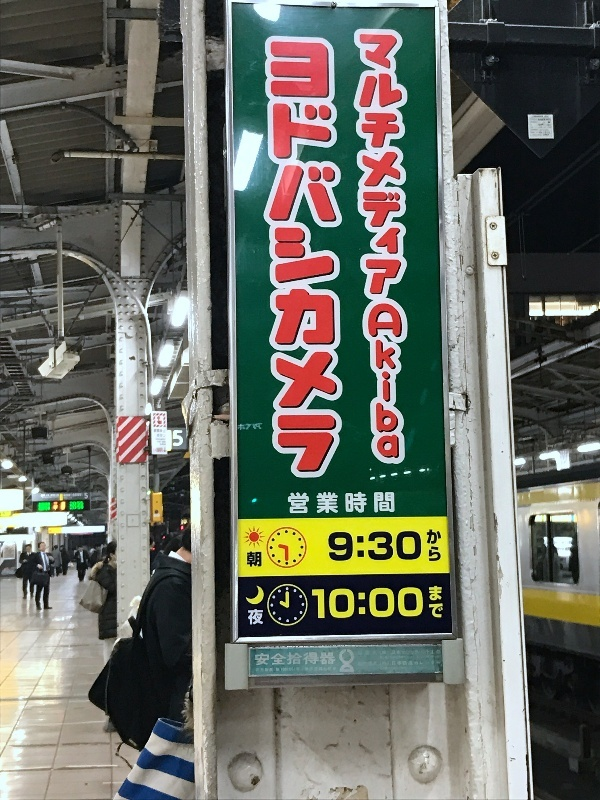text: (273, 35, 288, 484), (289, 35, 304, 484), (305, 35, 320, 484), (321, 35, 336, 484), (353, 30, 368, 463), (369, 30, 384, 463), (385, 30, 400, 463), (337, 35, 343, 484), (401, 30, 405, 463), (269, 35, 272, 484), (337, 525, 352, 567), (353, 525, 368, 567), (369, 525, 384, 567), (385, 525, 400, 567), (401, 525, 416, 567), (321, 586, 336, 621), (337, 586, 352, 621), (353, 586, 368, 621), (369, 586, 384, 621), (385, 586, 400, 621), (401, 586, 416, 621), (289, 488, 304, 519), (305, 488, 320, 519), (321, 488, 336, 519), (337, 488, 352, 519), (353, 488, 368, 519), (369, 488, 384, 519), (433, 584, 444, 621), (338, 647, 352, 676), (327, 525, 336, 567), (385, 488, 397, 519), (433, 526, 442, 564), (311, 586, 320, 621), (257, 650, 272, 670), (273, 650, 288, 670), (289, 650, 304, 670), (305, 650, 320, 670), (417, 586, 425, 621), (321, 650, 335, 670), (417, 525, 423, 567), (247, 547, 256, 573), (426, 526, 432, 564), (247, 607, 256, 630), (257, 607, 264, 630), (257, 547, 263, 573), (241, 422, 256, 432), (428, 584, 432, 621), (177, 429, 183, 449), (257, 666, 272, 674), (273, 666, 288, 674), (289, 666, 304, 674), (305, 666, 320, 674), (321, 666, 336, 674), (84, 492, 96, 501), (353, 647, 356, 676), (172, 429, 176, 449), (70, 502, 80, 510), (257, 422, 264, 432), (286, 488, 288, 519), (253, 650, 256, 670), (153, 447, 160, 453), (237, 422, 240, 432), (154, 429, 160, 434), (161, 429, 166, 434), (81, 502, 84, 510), (161, 434, 166, 438), (161, 447, 164, 453), (157, 434, 160, 438)
